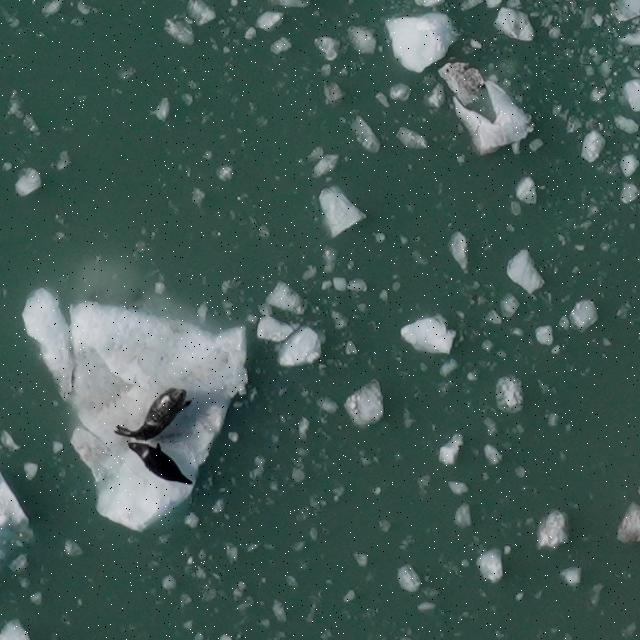seal: (112, 383, 196, 443), (126, 440, 198, 488)
